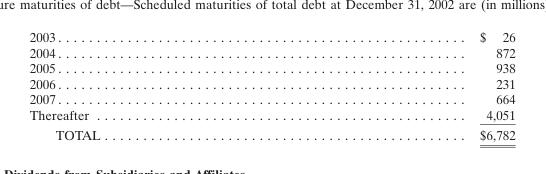table: (28, 28, 514, 142)
table column: (28, 28, 289, 142), (289, 28, 514, 142)
table row: (28, 106, 514, 124), (28, 124, 514, 142), (28, 28, 514, 44), (28, 59, 514, 75), (28, 90, 514, 106), (28, 44, 514, 59), (28, 75, 514, 90)
